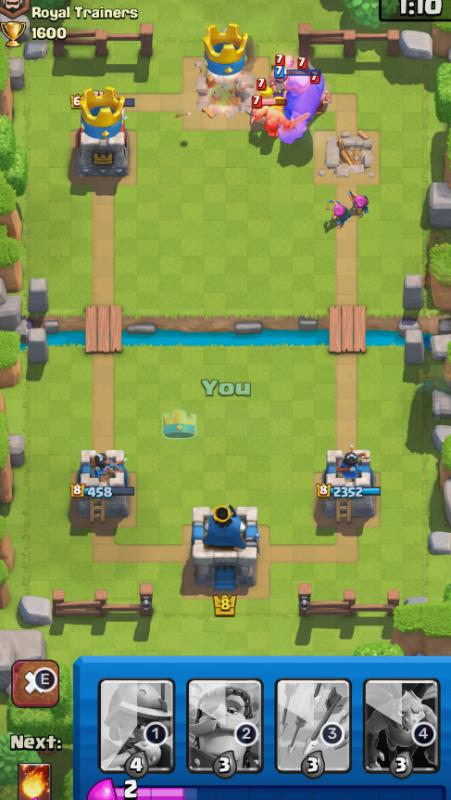archere: (322, 202, 353, 233), (345, 187, 372, 219)
geant: (278, 67, 323, 137)
